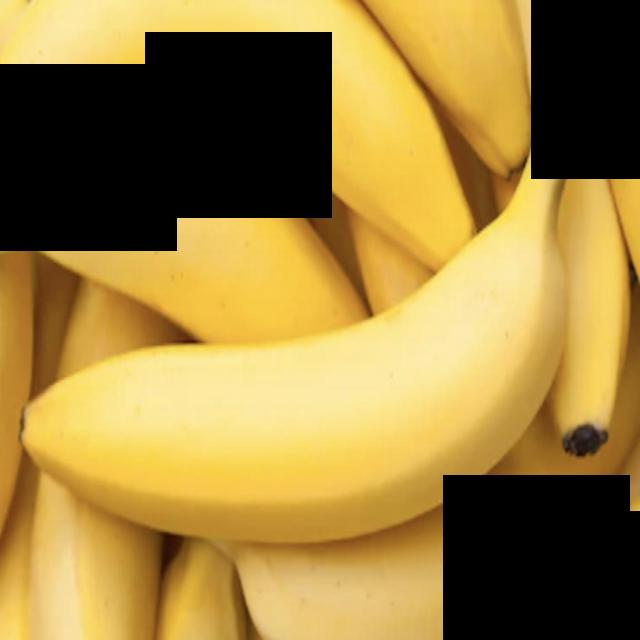banana: (21, 22, 614, 545)
